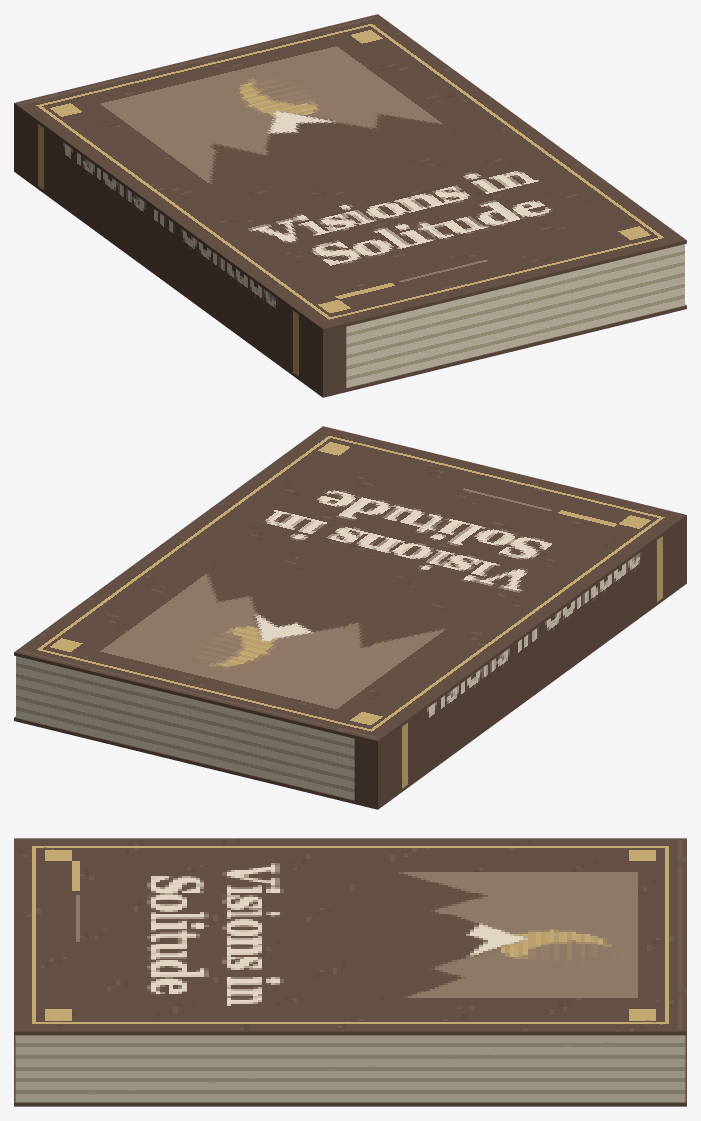
File: visions_solitude.glb
3 renders of one model, top to bottom at view 1: azimuth 30°, elevation 25°; view 2: azimuth 150°, elevation 25°; view 3: azimuth 270°, elevation 25°, orthographic. The views are drawn at different scales.
Visible parts, largest first — view 1: block_front cover, block_page block, block_spine, block_back cover; view 2: block_front cover, block_page block, block_spine, block_back cover; view 3: block_front cover, block_page block, block_back cover.
Boxes of the visible parts, left/top/right/bottom form: block_front cover: left=14, top=14, right=686, bottom=332; block_page block: left=346, top=244, right=684, bottom=387; block_spine: left=14, top=106, right=346, bottom=394; block_back cover: left=14, top=168, right=686, bottom=397; block_front cover: left=14, top=426, right=686, bottom=744; block_page block: left=16, top=656, right=354, bottom=799; block_spine: left=354, top=518, right=686, bottom=806; block_back cover: left=14, top=580, right=686, bottom=809; block_front cover: left=14, top=838, right=686, bottom=1035; block_page block: left=15, top=1035, right=685, bottom=1102; block_back cover: left=14, top=1035, right=686, bottom=1106.
Bounding box in the file's own units: 0.1414 × 0.0255 × 0.208.
1 material, 1 textured.
